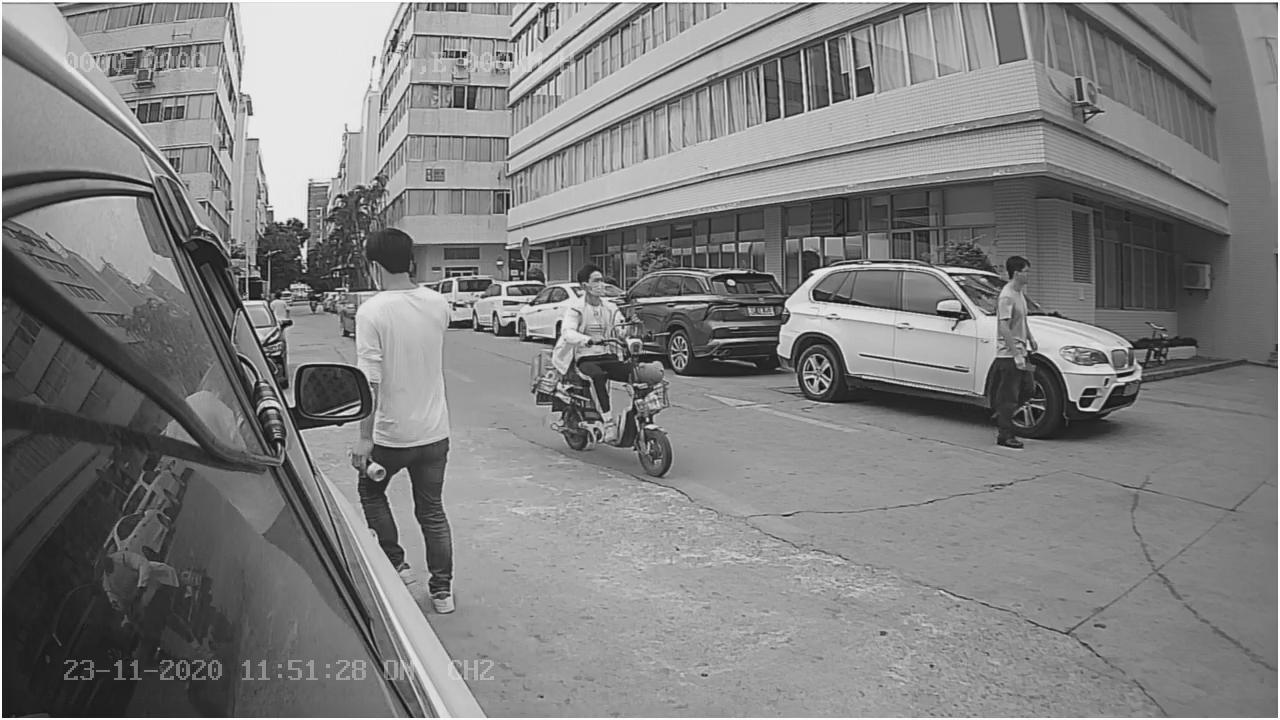person: (351, 223, 464, 369), (982, 253, 1049, 450), (559, 261, 651, 348)
